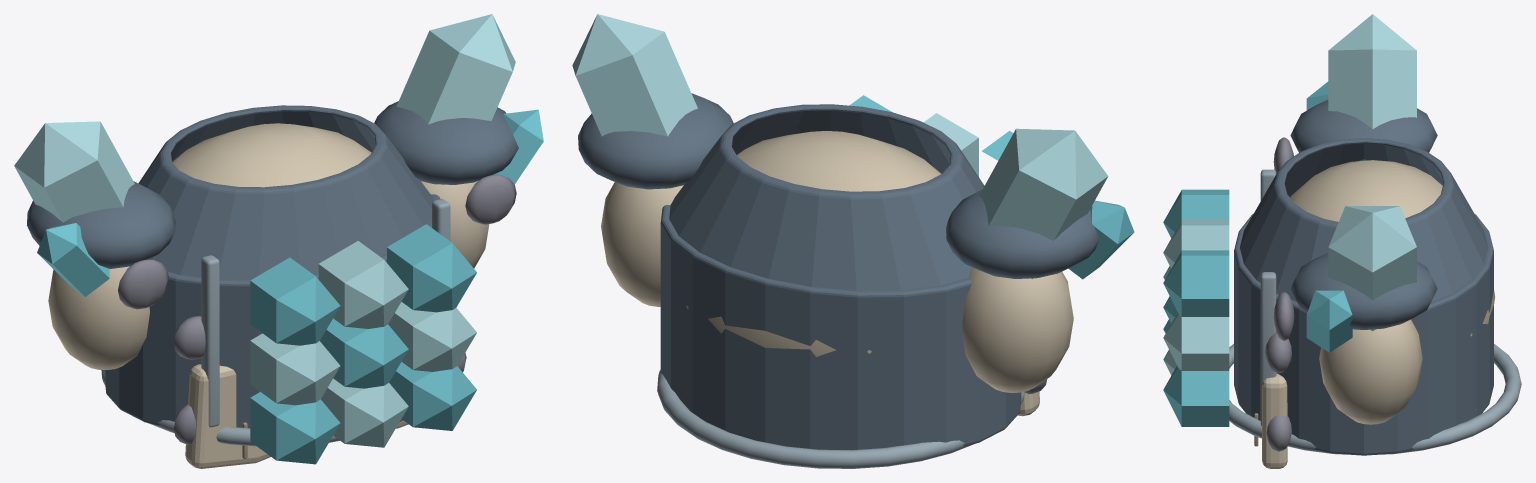
Rendered from crystalmail.glb.
3 views of the same model, side by side, from view 1: azimuth 30°, elevation 25°; view 2: azimuth 150°, elevation 25°; view 3: azimuth 270°, elevation 25° (orthographic). The views are drawn at different scales.
Parts seen in each view (by area): view 1: _box, _crystal_chest_scale, _cloth_skirt, _crystal_pauldron, _crystal_pauldron.001, _stone_crystal_anchor; view 2: _box, _cloth_skirt, _crystal_pauldron, _crystal_pauldron.001, _crystal_chest_scale; view 3: _box, _cloth_skirt, _crystal_chest_scale, _crystal_pauldron.001, _crystal_pauldron, _stone_crystal_anchor.
Part boxes in pixels (x1=…): _box: x1=27, y1=101, x2=518, y2=446; _crystal_chest_scale: x1=250, y1=224, x2=476, y2=464; _cloth_skirt: x1=48, y1=123, x2=489, y2=468; _crystal_pauldron: x1=14, y1=121, x2=134, y2=296; _crystal_pauldron.001: x1=396, y1=14, x2=543, y2=184; _stone_crystal_anchor: x1=118, y1=174, x2=516, y2=444; _box: x1=578, y1=93, x2=1099, y2=468; _cloth_skirt: x1=601, y1=131, x2=1073, y2=416; _crystal_pauldron: x1=979, y1=128, x2=1134, y2=279; _crystal_pauldron.001: x1=572, y1=14, x2=697, y2=136; _crystal_chest_scale: x1=849, y1=95, x2=1013, y2=176; _box: x1=1229, y1=99, x2=1521, y2=455; _cloth_skirt: x1=1254, y1=160, x2=1495, y2=468; _crystal_chest_scale: x1=1163, y1=189, x2=1229, y2=426; _crystal_pauldron.001: x1=1306, y1=206, x2=1416, y2=352; _crystal_pauldron: x1=1306, y1=14, x2=1416, y2=129; _stone_crystal_anchor: x1=1265, y1=137, x2=1294, y2=451.
Size of the model in its own units: 0.9127 by 0.5871 by 0.623.
